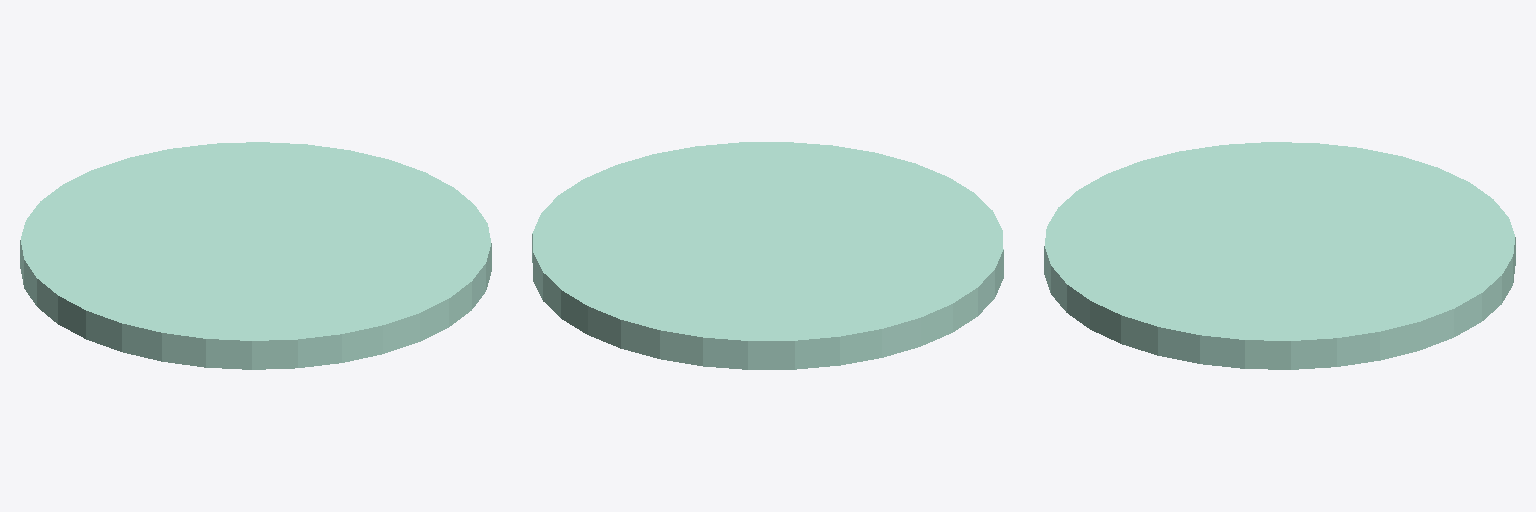
The robot description file, URDF, robot "Interference":
<?xml version="1.0"?>
<robot name="Interference">
  <link name="baseLink">
    <inertial>
      <origin xyz="0.0 0.0 0.0" rpy="0.0 0.0 0.0"/>
      <inertia ixx="0.0" ixy="0.0" ixz="0.0" iyy="0.0" iyz="0.0" izz="0.0"/>
      <mass value="0"/>
    </inertial>
    <visual>
      <origin xyz="0.0 0.0 0.0" rpy="0.0 0.0 -0.5415418360598337"/>
      <geometry>
        <cylinder radius="0.07393105601701273" length="0.01"/>
      </geometry>
      <material name="color">
        <color rgba="0.7701739939695726 0.943368746216884 0.8861295072114816 1.0"/>
      </material>
    </visual>
  </link>
</robot>

--- What the picture shows (computed from the rendered views, not written in the file) ---
Views: 3 orthographic renders of the robot side by side, from view 1: azimuth 30°, elevation 25°; view 2: azimuth 150°, elevation 25°; view 3: azimuth 270°, elevation 25°.
Robot: Interference — 1 links, 0 joints (none); root link baseLink; default pose: every joint at zero.
Visible links, largest first — view 1: baseLink; view 2: baseLink; view 3: baseLink.
Link boxes in pixels (x1,y1,x2,y2): baseLink: [20, 142, 491, 369]; baseLink: [532, 142, 1003, 369]; baseLink: [1044, 142, 1515, 369].
Size in the robot's own frame: 0.1477 by 0.1477 by 0.01 metres.
Geometry: primitives only (box / cylinder / sphere), no mesh files.